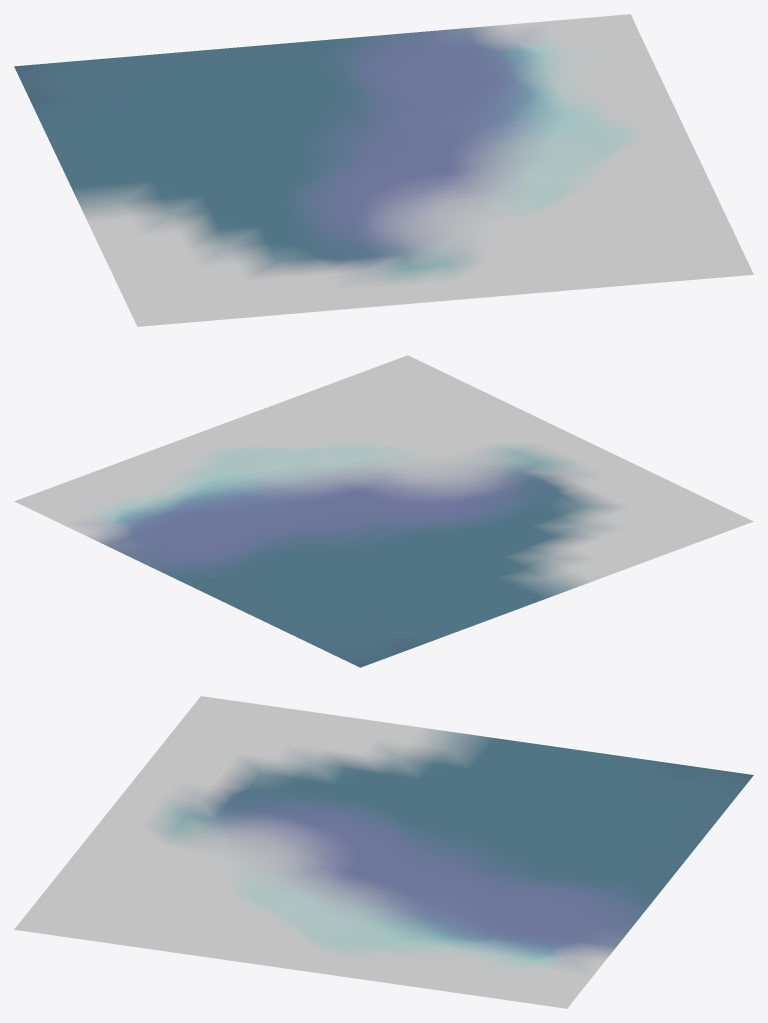
Rendered from pref_sce_081501_water02_lv3.fbx.
3 views of the same model, one above another, from view 1: azimuth 30°, elevation 25°; view 2: azimuth 150°, elevation 25°; view 3: azimuth 270°, elevation 25° (orthographic). The views are drawn at different scales.
Visible parts, largest first — view 1: pref_sce_081501_water02_lv3; view 2: pref_sce_081501_water02_lv3; view 3: pref_sce_081501_water02_lv3.
Part boxes in pixels (<box>): pref_sce_081501_water02_lv3: <box>14,14,753,326</box>; pref_sce_081501_water02_lv3: <box>14,355,753,667</box>; pref_sce_081501_water02_lv3: <box>14,696,753,1008</box>.
Size of the model in its own units: 219 by 1.29e-07 by 218.
